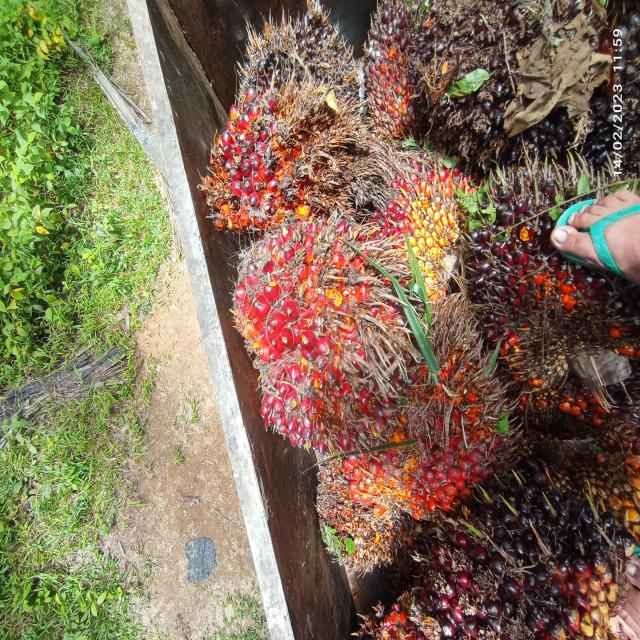fraksi 00: (436, 123, 640, 420), (353, 0, 608, 169), (417, 453, 640, 640)
fraksi 3: (198, 186, 409, 460), (352, 275, 519, 543), (180, 62, 346, 239), (372, 116, 471, 314)
